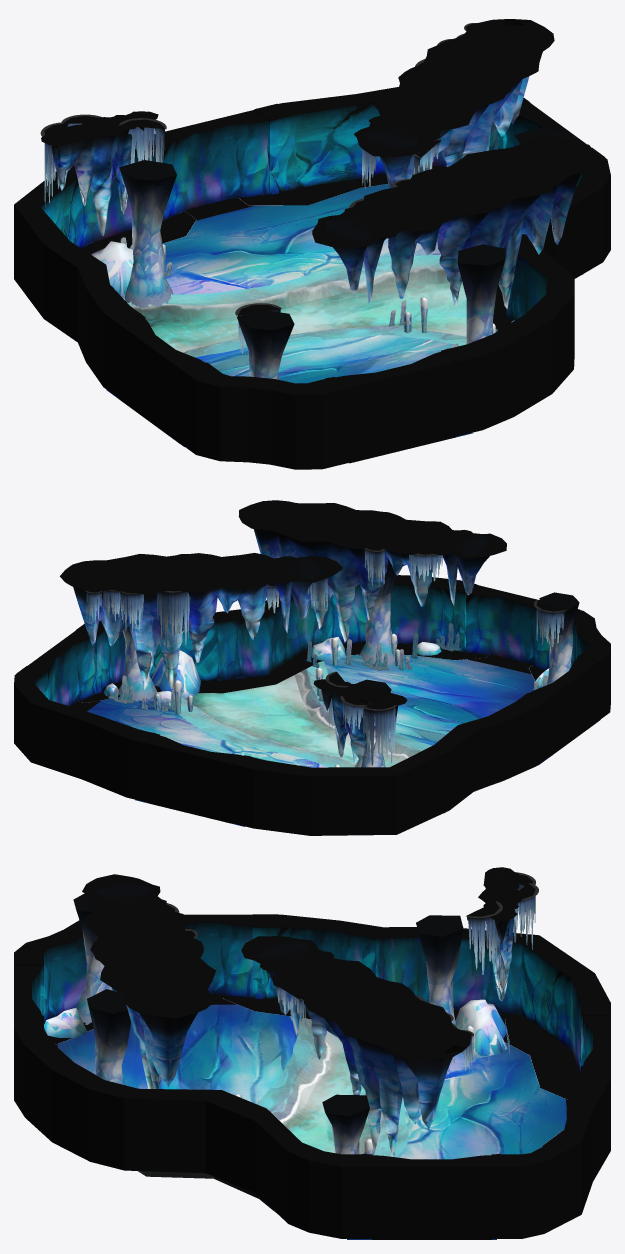
Rendered from Dungeon_072_RoomSW_006.fbx.
The picture shows the model from 3 angles, top to bottom: view 1: azimuth 30°, elevation 25°; view 2: azimuth 150°, elevation 25°; view 3: azimuth 270°, elevation 25°; orthographic projection. The views are drawn at different scales.
Visible parts, largest first — view 1: Dun_072_RoomSW_001_wall, Dun_072_RoomSW_001_top, Dun_072_Door_002 (×4), Dun_072_RoomSW_001_ground, Dun_072_RoomSW_001_kawa01, Dun_072_OB_Pillar, Dun_072_OB_Icicle, Dun_072_RoomSW_001_shadow, Dun_072_OB_Stone02, Dun_072_Door_002_shadow; view 2: Dun_072_RoomSW_001_wall, Dun_072_RoomSW_001_top, Dun_072_Door_002 (×4), Dun_072_RoomSW_001_ground, Dun_072_RoomSW_001_kawa01, Dun_072_OB_Icicle, Dun_072_OB_Pillar, Dun_072_RoomSW_001_shadow, Dun_072_OB_Ice_crystals02, Dun_072_OB_Stone02, Dun_072_OB_Ice_crystals01, Dun_072_OB_Stone01 (+1 smaller); view 3: Dun_072_RoomSW_001_wall, Dun_072_RoomSW_001_top, Dun_072_RoomSW_001_ground, Dun_072_Door_002 (×4), Dun_072_OB_Pillar, Dun_072_RoomSW_001_kawa01, Dun_072_RoomSW_001_shadow, Dun_072_OB_Icicle, Dun_072_OB_Stone02.
Boxes of the visible parts, x1,y1,x2,y2 form: Dun_072_RoomSW_001_wall: (14, 87, 610, 469); Dun_072_RoomSW_001_top: (41, 19, 596, 308); Dun_072_Door_002 (×4): (105, 98, 604, 463); Dun_072_RoomSW_001_ground: (106, 184, 472, 446); Dun_072_RoomSW_001_kawa01: (123, 255, 466, 357); Dun_072_OB_Pillar: (119, 127, 570, 379); Dun_072_OB_Icicle: (40, 23, 476, 353); Dun_072_RoomSW_001_shadow: (82, 165, 510, 330); Dun_072_OB_Stone02: (91, 241, 584, 298); Dun_072_Door_002_shadow: (185, 198, 254, 220); Dun_072_RoomSW_001_wall: (14, 575, 610, 835); Dun_072_RoomSW_001_top: (60, 500, 506, 767); Dun_072_Door_002 (×4): (16, 580, 607, 823); Dun_072_RoomSW_001_ground: (87, 654, 600, 826); Dun_072_RoomSW_001_kawa01: (156, 661, 509, 813); Dun_072_OB_Icicle: (85, 548, 566, 765); Dun_072_OB_Pillar: (118, 558, 579, 767); Dun_072_RoomSW_001_shadow: (79, 642, 544, 702); Dun_072_OB_Ice_crystals02: (108, 623, 547, 711); Dun_072_OB_Stone02: (150, 636, 549, 698); Dun_072_OB_Ice_crystals01: (154, 633, 400, 767); Dun_072_OB_Stone01: (103, 642, 441, 703); Dun_072_RoomSW_001_wall: (14, 914, 610, 1238); Dun_072_RoomSW_001_top: (82, 867, 524, 1156); Dun_072_RoomSW_001_ground: (57, 1004, 566, 1239); Dun_072_Door_002 (×4): (14, 914, 610, 1239); Dun_072_OB_Pillar: (73, 893, 463, 1154); Dun_072_RoomSW_001_kawa01: (138, 1016, 408, 1210); Dun_072_RoomSW_001_shadow: (44, 995, 580, 1146); Dun_072_OB_Icicle: (164, 872, 538, 1073); Dun_072_OB_Stone02: (44, 999, 507, 1212).
Size of what is drawn, in the model's own units: 15 by 5.03 by 15.
